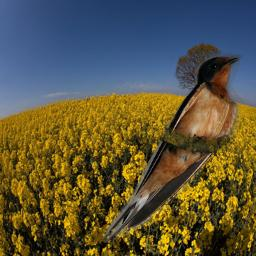Swallow: (97, 51, 244, 243)
